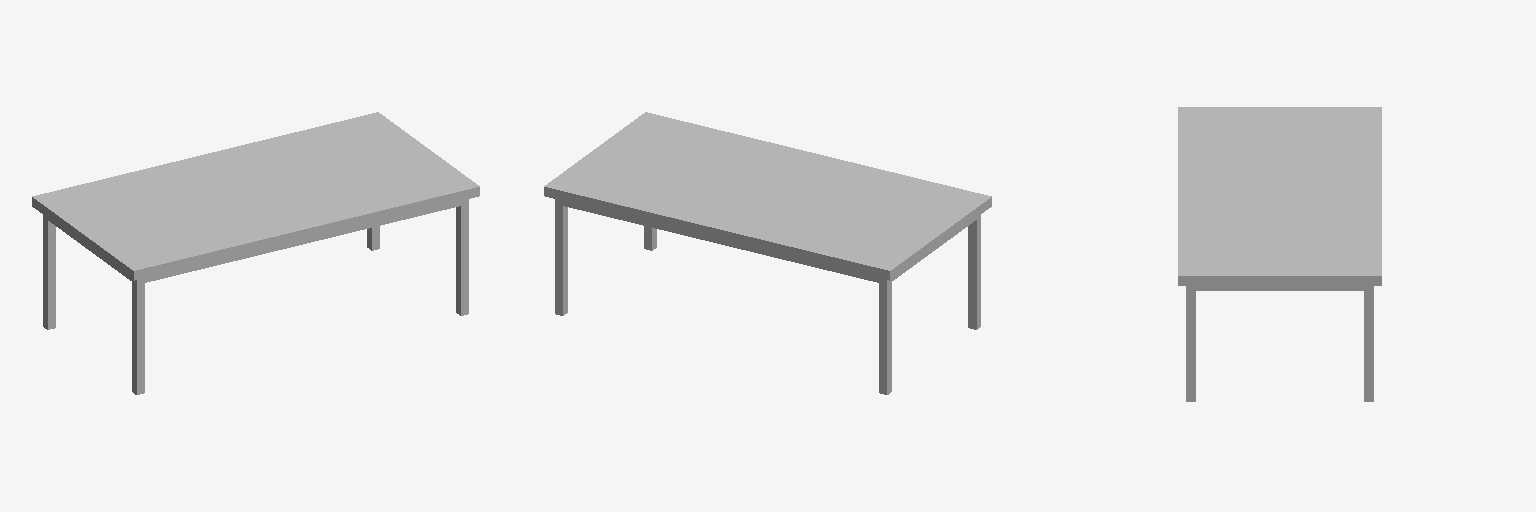
The model's file is mesa.obj.
3 renders of one model, left to right at view 1: azimuth 30°, elevation 25°; view 2: azimuth 150°, elevation 25°; view 3: azimuth 270°, elevation 25°, orthographic.
Visible parts, largest first — view 1: mesa_Cube.001; view 2: mesa_Cube.001; view 3: mesa_Cube.001.
Boxes of the visible parts, <box> form: mesa_Cube.001: <box>32,112,479,394</box>; mesa_Cube.001: <box>544,112,991,394</box>; mesa_Cube.001: <box>1178,107,1381,401</box>.
Size of the model in its own units: 5.74 by 2.04 by 2.92.